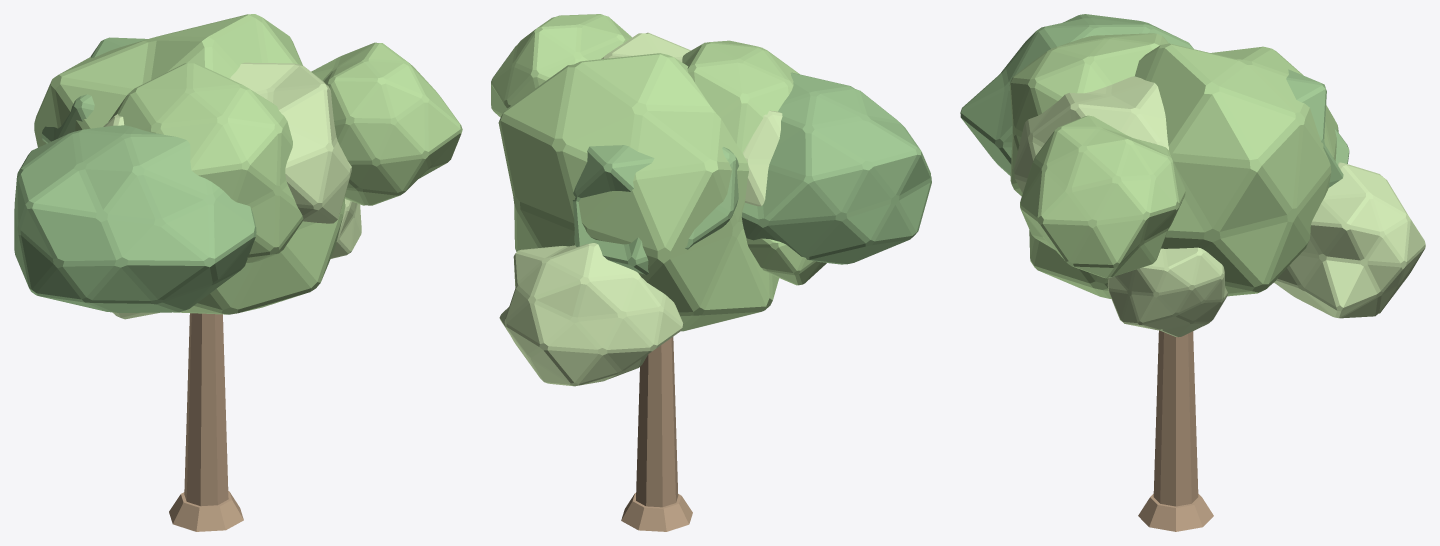
The model's file is Veg_Tree_A.fbx.
3 views of the same model, side by side, from view 1: azimuth 30°, elevation 25°; view 2: azimuth 150°, elevation 25°; view 3: azimuth 270°, elevation 25° (orthographic). The views are drawn at different scales.
Visible parts, largest first — view 1: Veg_Tree_A_Veg, Veg_Tree_A; view 2: Veg_Tree_A_Veg, Veg_Tree_A; view 3: Veg_Tree_A_Veg, Veg_Tree_A.
Boxes of the visible parts, <box> form: Veg_Tree_A_Veg: <box>14,14,462,319</box>; Veg_Tree_A: <box>169,313,243,531</box>; Veg_Tree_A_Veg: <box>491,14,931,386</box>; Veg_Tree_A: <box>621,337,692,531</box>; Veg_Tree_A_Veg: <box>960,14,1425,337</box>; Veg_Tree_A: <box>1138,330,1213,531</box>.
Size of the model in its own units: 2.81 by 3 by 2.69.
